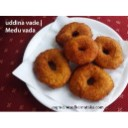vada: (68, 61, 114, 99), (33, 48, 69, 87), (56, 23, 95, 49), (65, 36, 99, 64), (94, 35, 121, 69)
